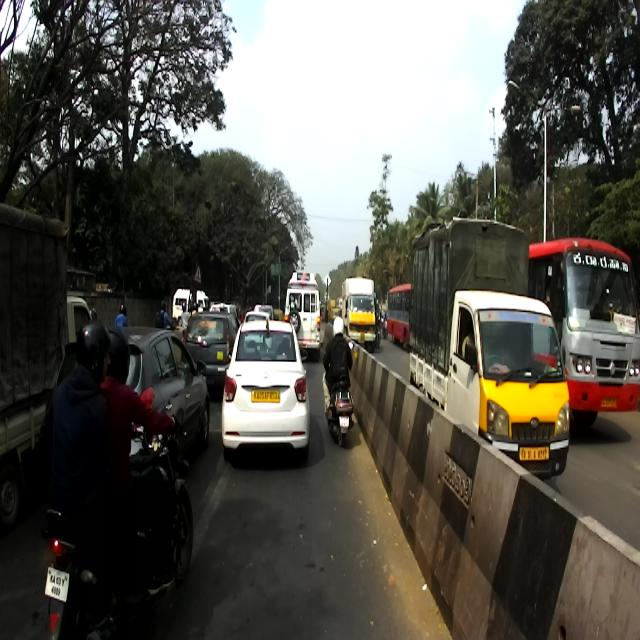car ahead at: (225, 317, 311, 464)
motorcycle ahead at: (37, 499, 197, 640), (323, 381, 353, 451)
